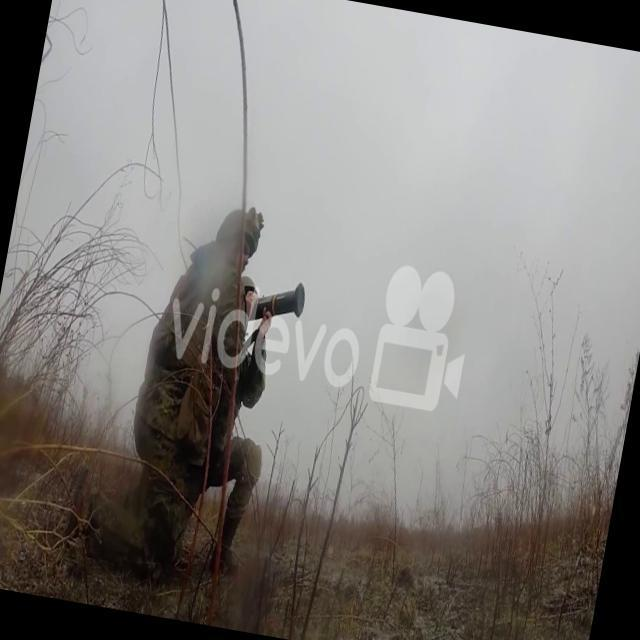rocket: (240, 276, 308, 343)
